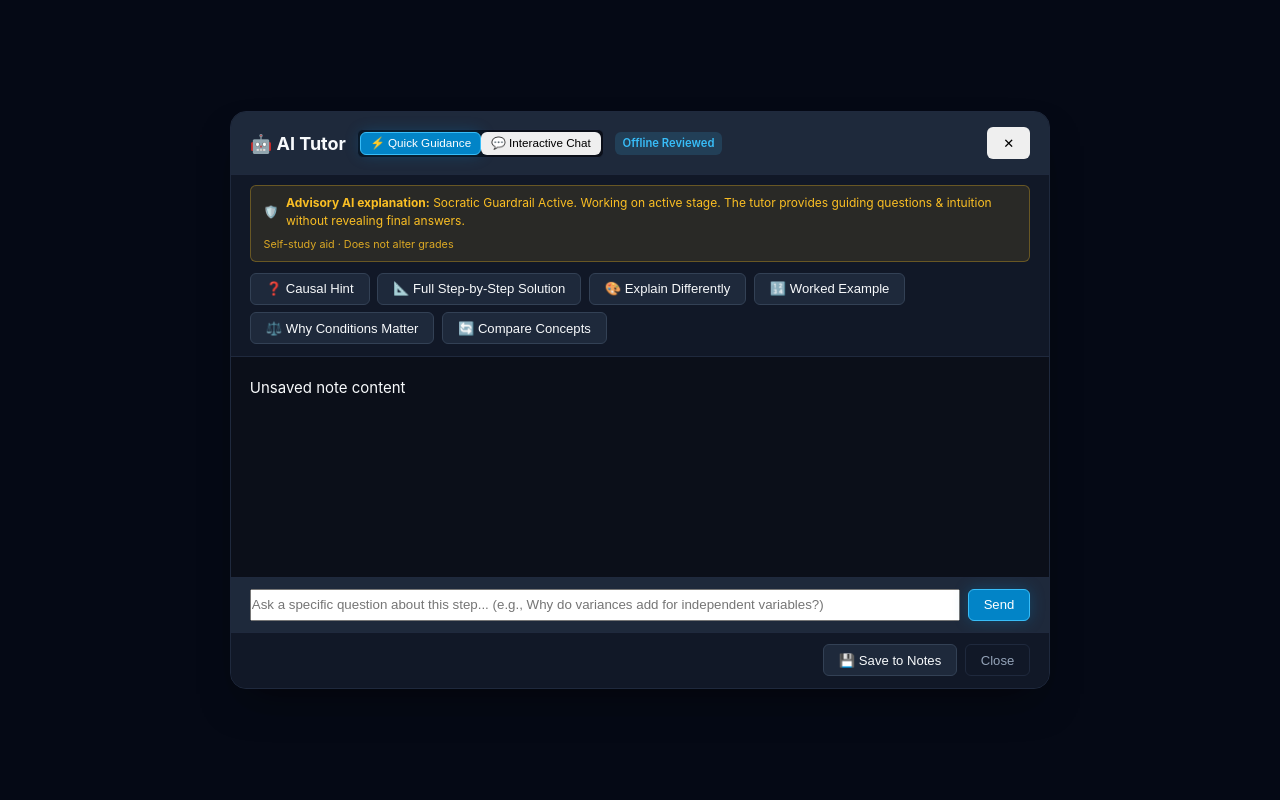
Test case: AITutorPanel Component › protects unsaved explanation on close with leave-intent dialog
Check: the text "Unsaved note content" is shown, box [250, 378, 406, 398]
Note: Clicking close or pressing Escape should prompt Save explanation?
What coordinates should you click on to do the following:
click the button named "Close (Esc)"
I would click on:
 (1009, 143)
Its box is [987, 127, 1030, 159].
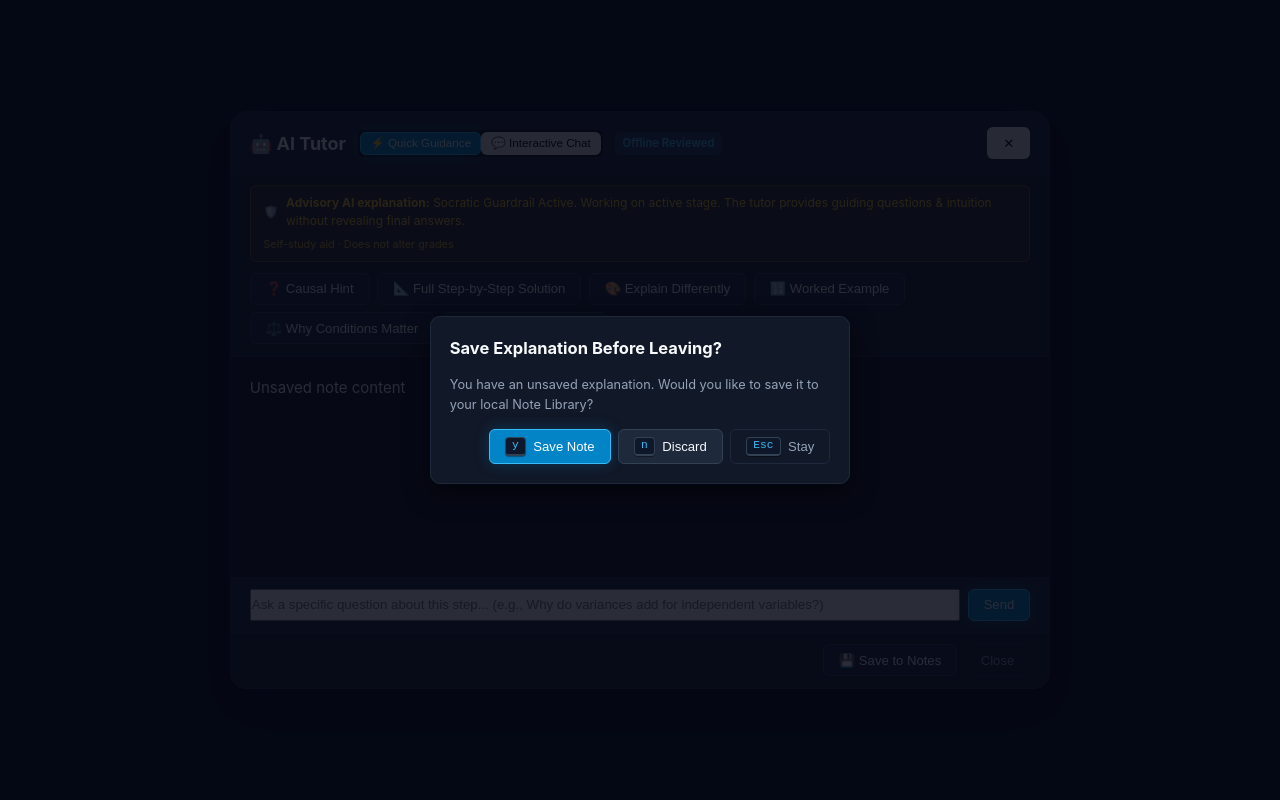
Check: the heading "Save Explanation Before Leaving?" is shown, box [450, 338, 722, 358]
Note: Clicking (Esc) Stay retains content and dismisses leave dialog
What coordinates should you click on to do the following:
click the button with aria-label "(Esc) Stay"
I would click on:
 (780, 446)
Its box is [730, 429, 830, 464].
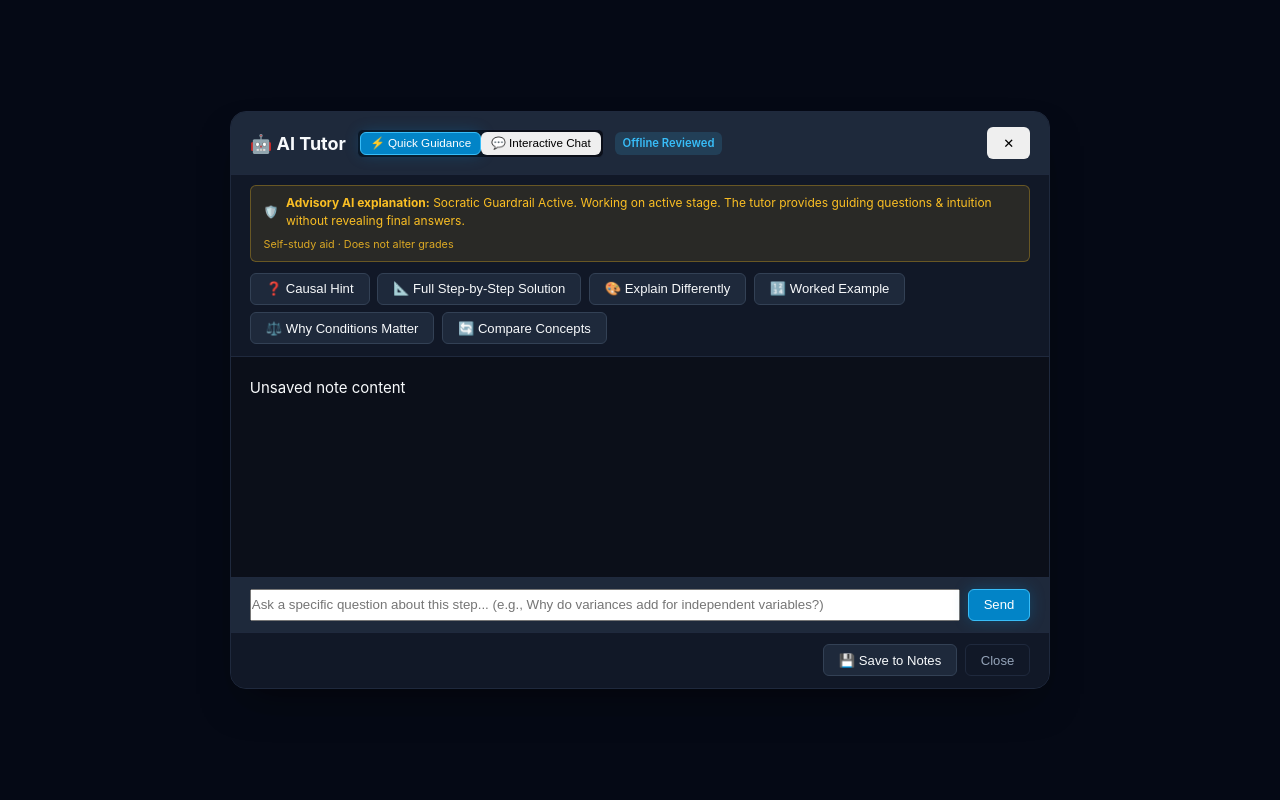
Check: the text "Unsaved note content" is shown, box [250, 378, 406, 398]
Check: the heading "Save Explanation Before Leaving?" is gone
